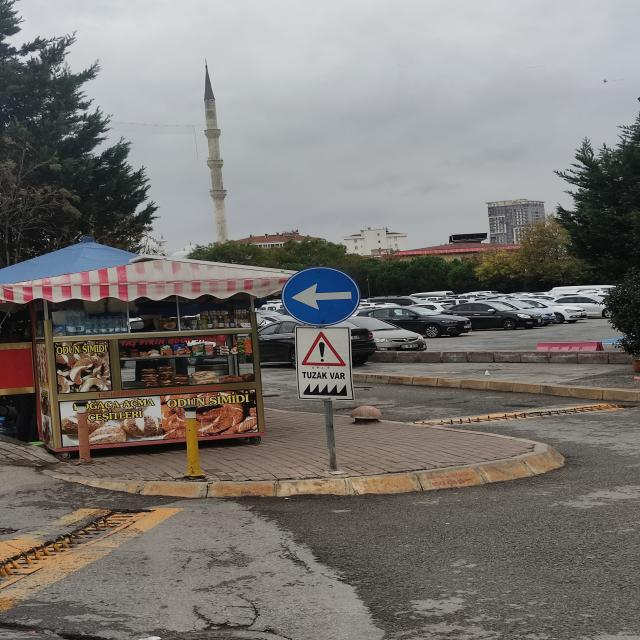Turn Left: (281, 266, 358, 324)
